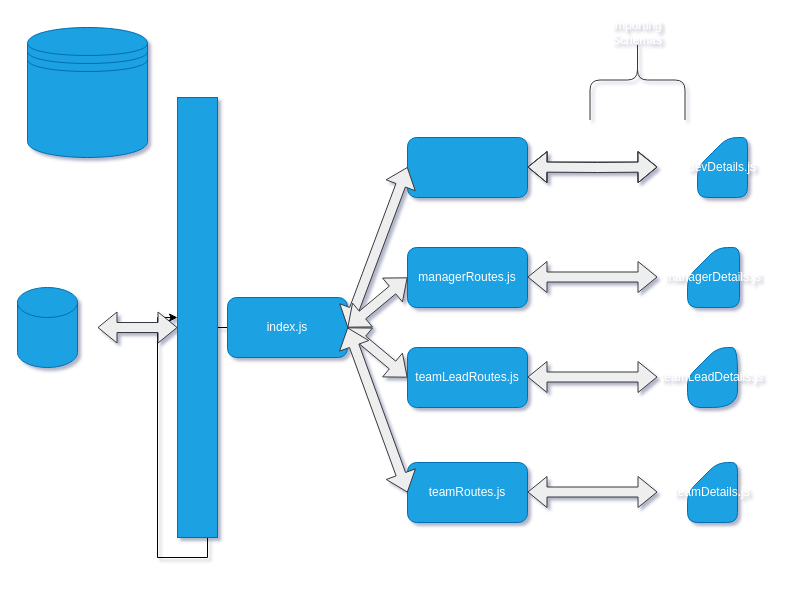
Some shapes in this 787 by 589 pixel diagram are drawn without their labels. Here are the shapes that lost their labels. From the top down, the centre of each, then its label:
the point at 87,92: mongoDB
the point at 467,167: devRoutes.js
the point at 47,327: cluster0
the point at 197,317: mongoose
